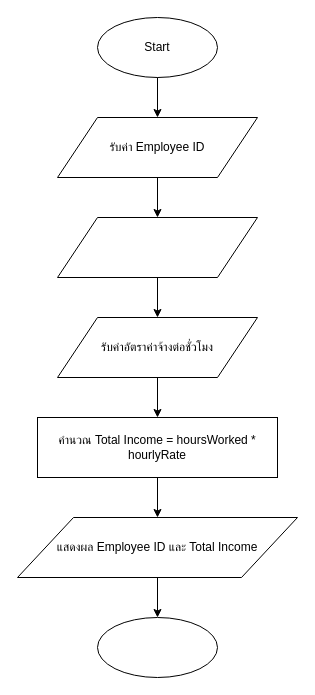
Some shapes in this 315 by 695 pixel diagram are drawn without their labels. Each missing label, with the box of its shape:
Stop: (96, 616, 218, 678)
รับค่าจำนวนชั่วโมงทำงาน: (56, 216, 258, 278)
